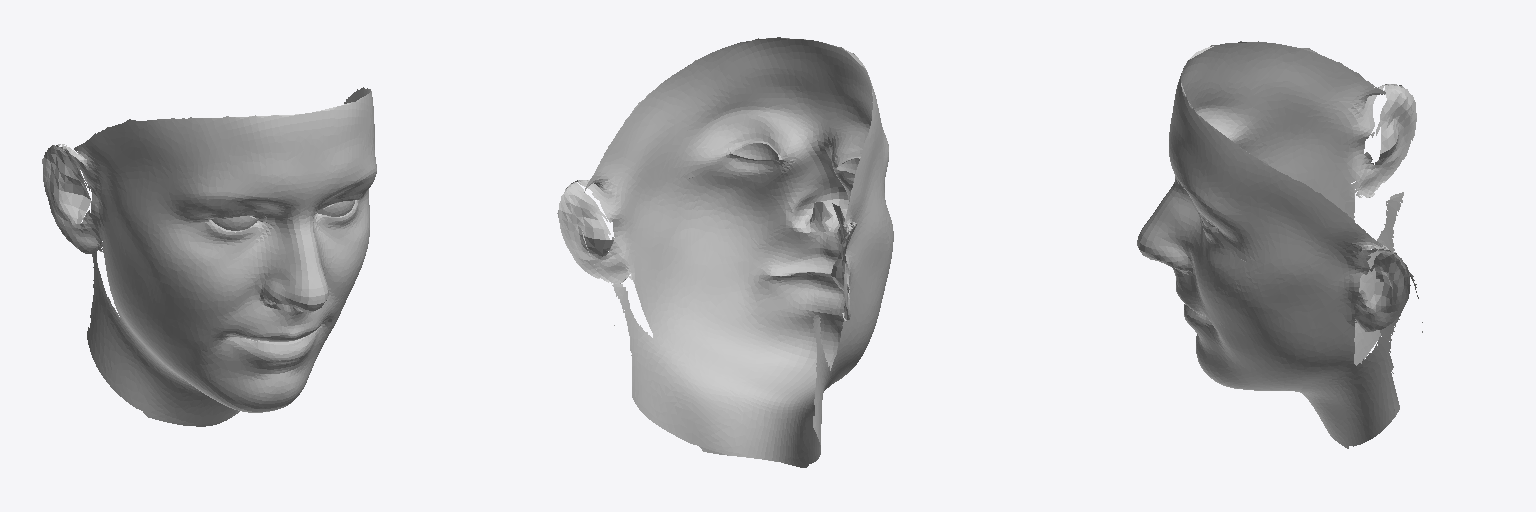
The model's file is reconstruct-color.obj.
3 views of the same model, side by side, from view 1: azimuth 30°, elevation 25°; view 2: azimuth 150°, elevation 25°; view 3: azimuth 270°, elevation 25° (orthographic).
Bounding box in the file's own units: 201369 × 239984 × 170495.